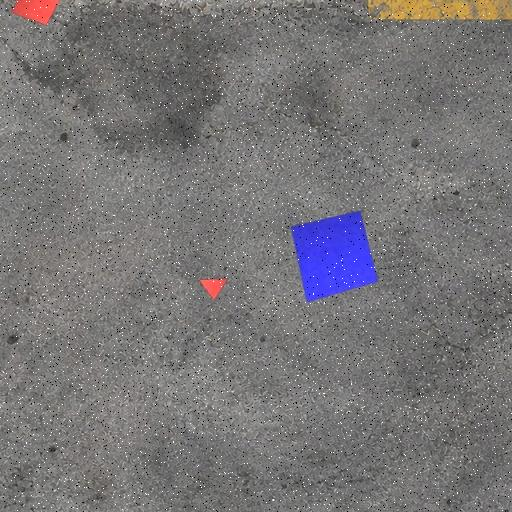BLUE_SQUARE: (290, 210, 378, 303)
RED_SQUARE: (10, 0, 64, 26)
